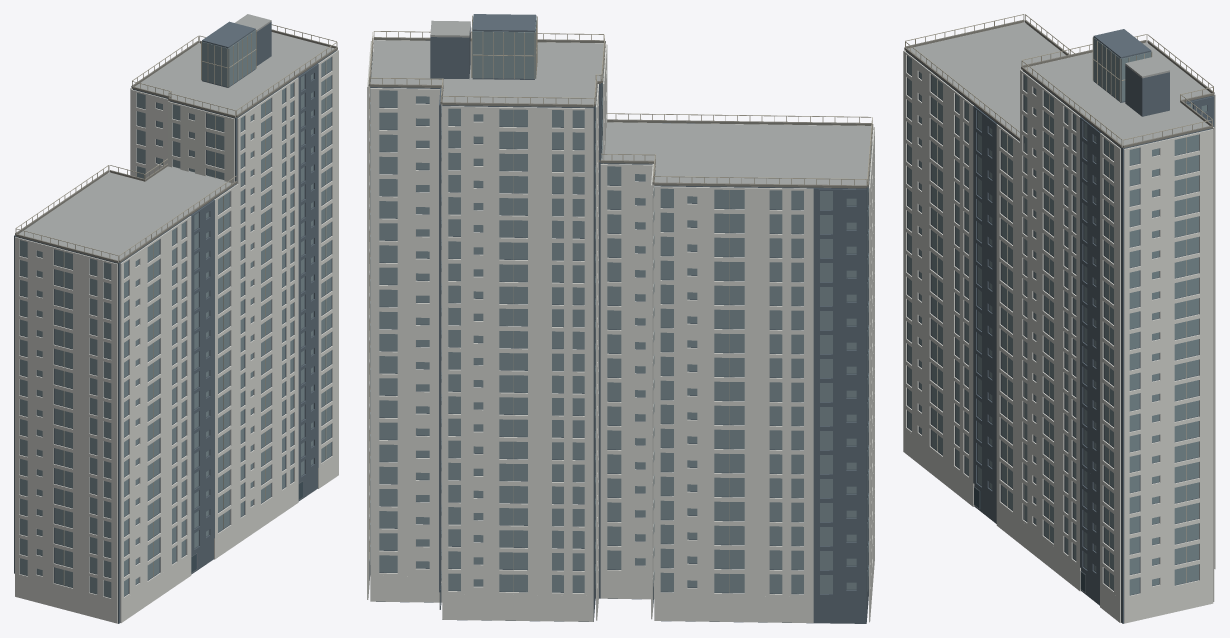
File: bespoke-raemian-onebailey-113.glb
3 renders of one model, left to right at view 1: azimuth 30°, elevation 25°; view 2: azimuth 150°, elevation 25°; view 3: azimuth 270°, elevation 25°, orthographic. The views are drawn at different scales.
Parts seen in each view (by area): view 1: 113_pale_bays_navy_shafts_5, 113_pale_bays_navy_shafts_1, 113_editable_massing, 113_glass_roof_crown_4, 113_pale_bays_navy_shafts_3, 113_glass_roof_crown_1; view 2: 113_pale_bays_navy_shafts_5, 113_pale_bays_navy_shafts_1, 113_editable_massing, 113_glass_roof_crown_4, 113_pale_bays_navy_shafts_3, 113_glass_roof_crown_1; view 3: 113_pale_bays_navy_shafts_5, 113_pale_bays_navy_shafts_1, 113_editable_massing, 113_glass_roof_crown_4, 113_pale_bays_navy_shafts_3, 113_glass_roof_crown_1.
Part boxes in pixels (<box>): 113_pale_bays_navy_shafts_5: <box>15,32,338,623</box>; 113_pale_bays_navy_shafts_1: <box>20,30,331,597</box>; 113_editable_massing: <box>14,21,336,623</box>; 113_glass_roof_crown_4: <box>19,14,334,262</box>; 113_pale_bays_navy_shafts_3: <box>15,24,337,585</box>; 113_glass_roof_crown_1: <box>15,29,337,262</box>; 113_pale_bays_navy_shafts_5: <box>367,40,874,622</box>; 113_pale_bays_navy_shafts_1: <box>370,16,872,593</box>; 113_editable_massing: <box>370,14,870,623</box>; 113_glass_roof_crown_4: <box>370,20,871,188</box>; 113_pale_bays_navy_shafts_3: <box>369,15,872,592</box>; 113_glass_roof_crown_1: <box>368,37,873,188</box>; 113_pale_bays_navy_shafts_5: <box>903,22,1215,623</box>; 113_pale_bays_navy_shafts_1: <box>908,37,1206,594</box>; 113_editable_massing: <box>906,24,1214,623</box>; 113_glass_roof_crown_4: <box>908,22,1210,148</box>; 113_pale_bays_navy_shafts_3: <box>905,14,1213,587</box>; 113_glass_roof_crown_1: <box>904,19,1214,147</box>.
Size of the model in its own units: 59.12 by 71.8 by 38.94.
